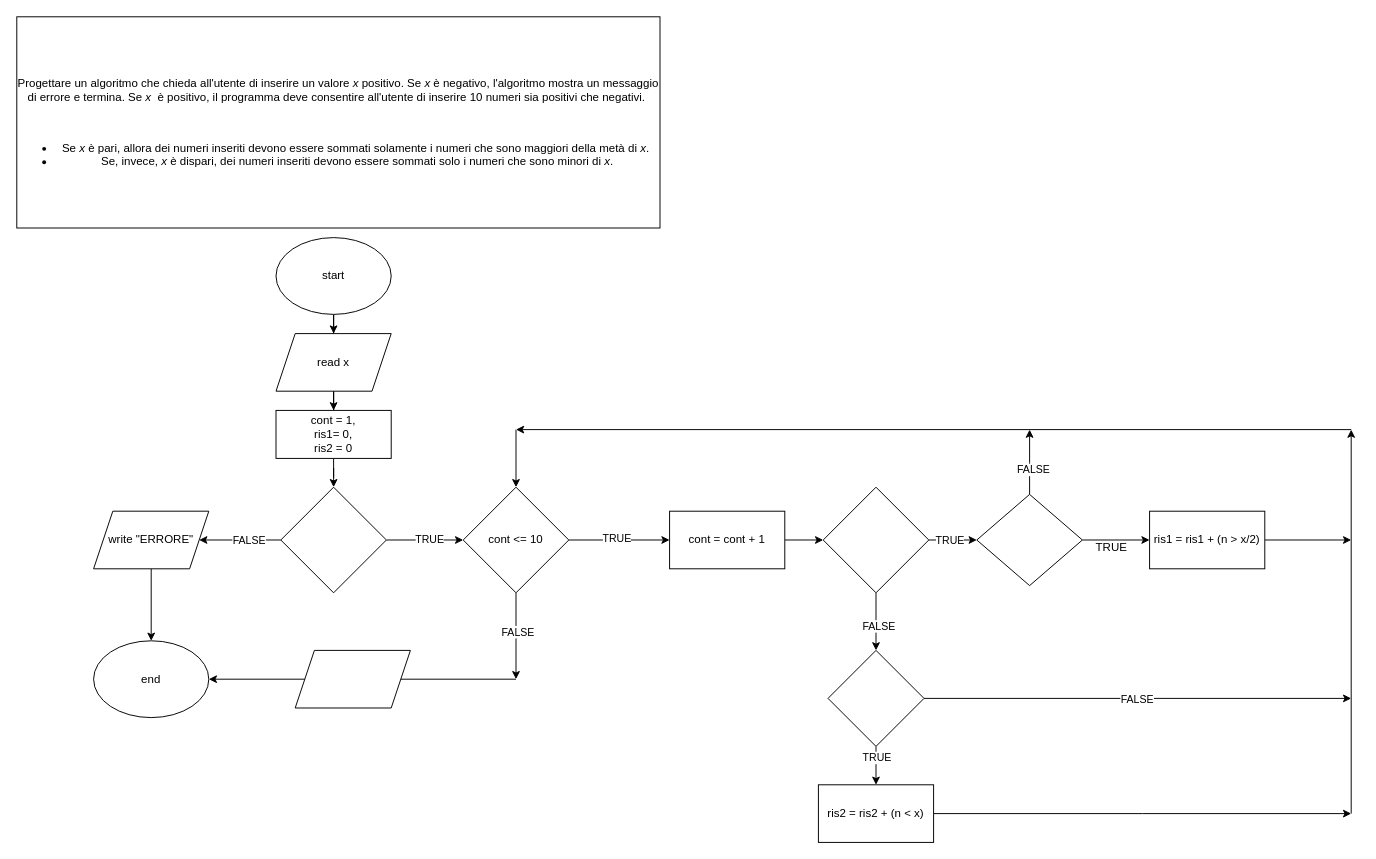
The diagram is 1376 pixels wide and 859 high, and some of its shapes have lost their labels. The centre of each missing label's shape, as x and y in pixels:
n < x: (875,697)
n > x/2: (1029,539)
write ris1, ris2: (352,678)
x % 2 ==0 and n > (x/2): (875,539)
x > 0: (333,539)
